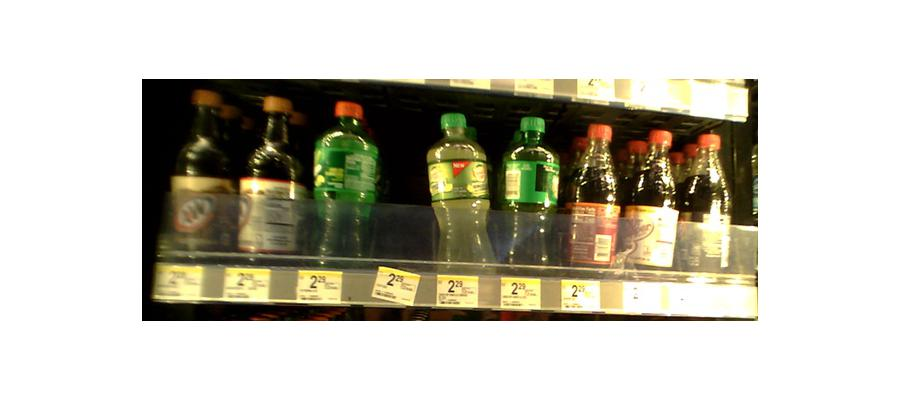bottle: (167, 85, 232, 260), (309, 98, 376, 260), (237, 98, 303, 260), (496, 118, 564, 272), (428, 111, 492, 274), (566, 120, 622, 276), (679, 125, 735, 277), (625, 126, 678, 278)
